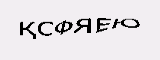Е: (95, 14, 111, 35)
С: (37, 20, 55, 40)
Ф: (52, 17, 73, 36)
Ю: (110, 16, 144, 33)
Я: (74, 16, 93, 37)
Қ: (15, 17, 38, 43)
